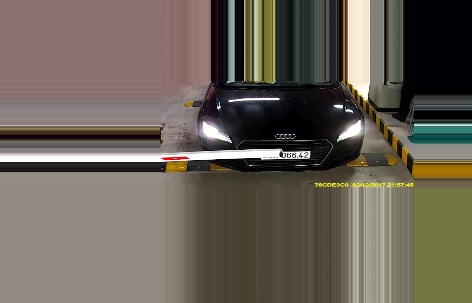plate: (257, 148, 310, 160)
